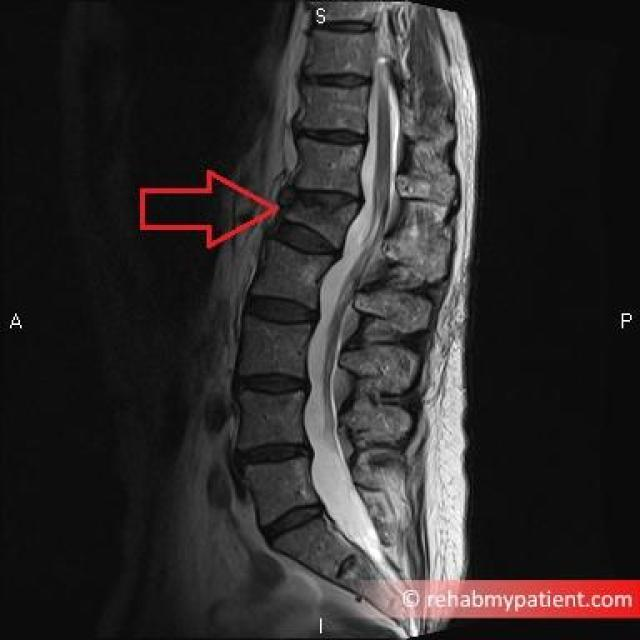fracture: (280, 150, 421, 337)
